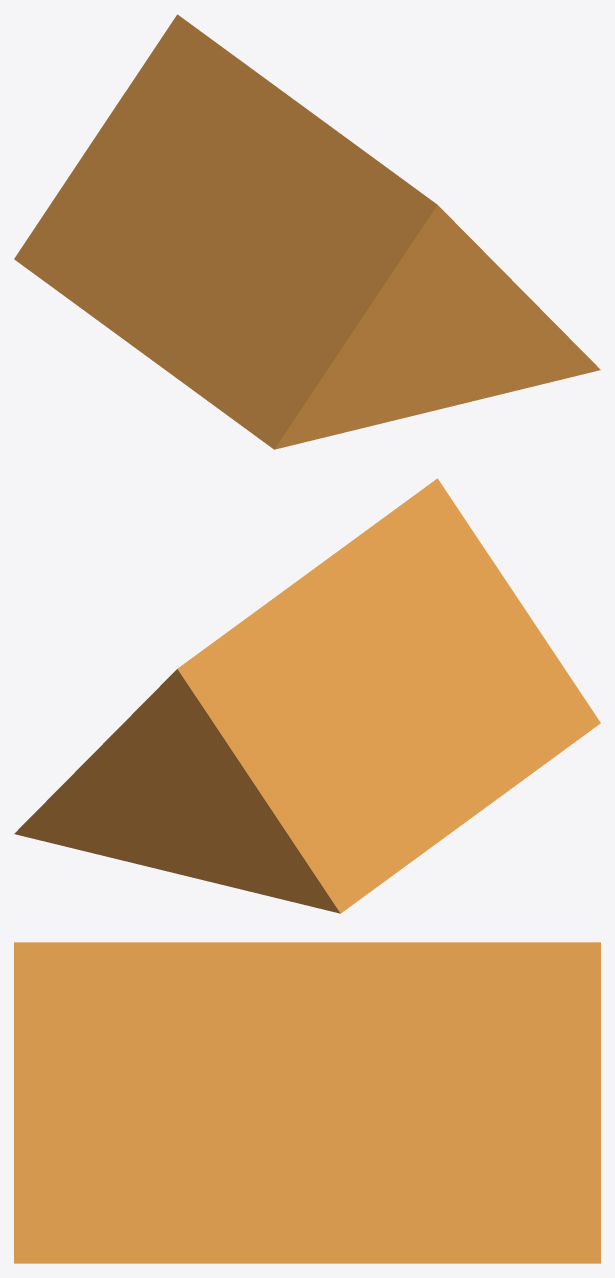
Rendered from prisme__edge.glb.
3 views of the same model, one above another, from view 1: azimuth 30°, elevation 25°; view 2: azimuth 150°, elevation 25°; view 3: azimuth 270°, elevation 25° (orthographic). The views are drawn at different scales.
Visible parts, largest first — view 1: prisme; view 2: prisme; view 3: prisme.
Boxes of the visible parts, left/top/right/bottom form: prisme: left=14, top=14, right=600, bottom=449; prisme: left=14, top=478, right=600, bottom=913; prisme: left=14, top=942, right=600, bottom=1263.
Bounding box in the file's own units: 0.7721 × 0.4632 × 1.07.
